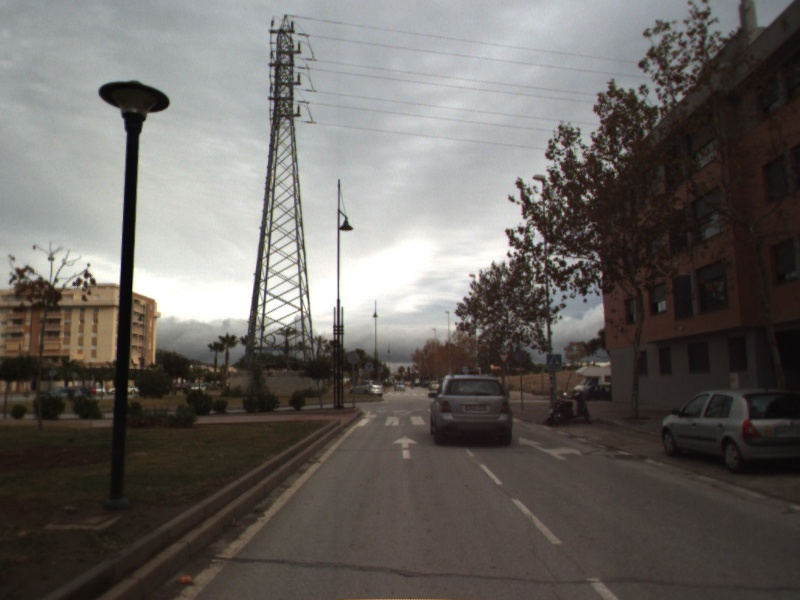STRAIGHT: (391, 433, 419, 460)
STRAIGHT_RIGHT: (517, 435, 584, 462)
